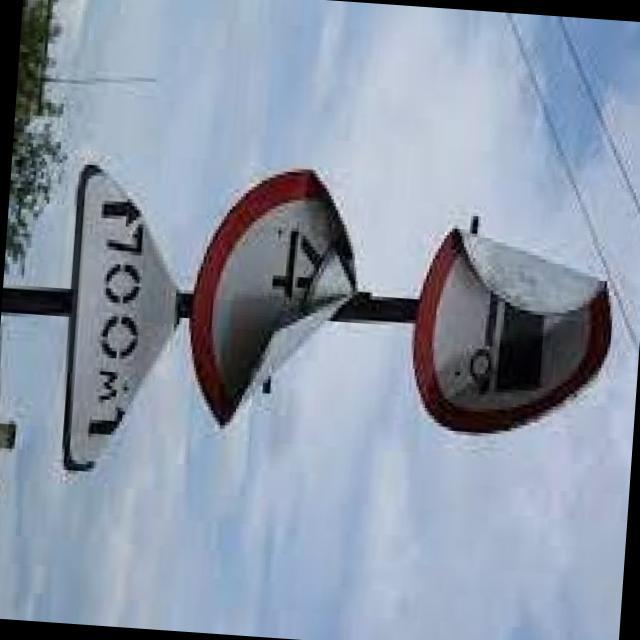obstructed_road_sign: (190, 170, 355, 425), (414, 229, 611, 432), (61, 174, 185, 473)
